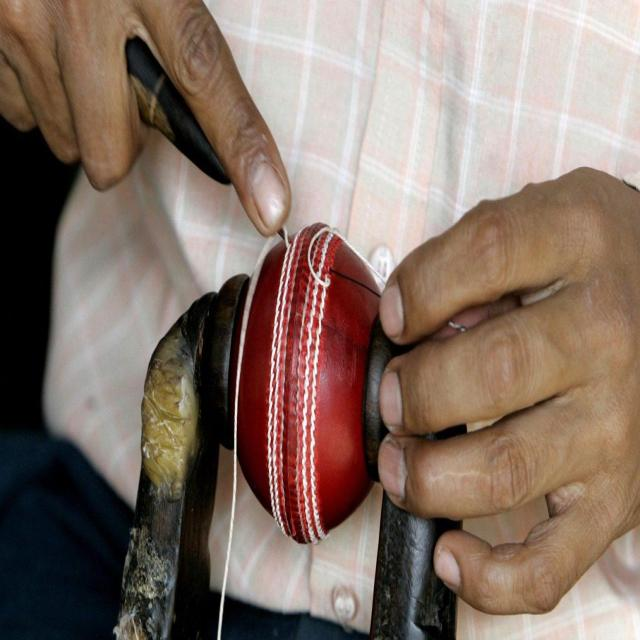ball: (234, 224, 396, 543)
